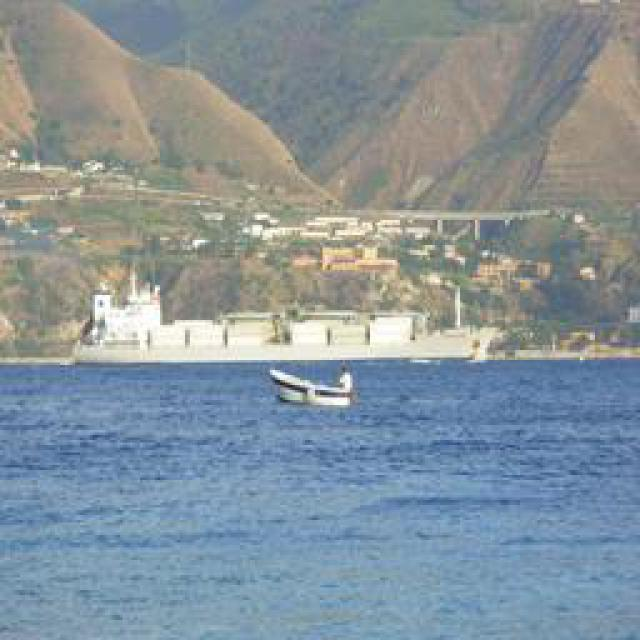Ship: (272, 370, 355, 410)
